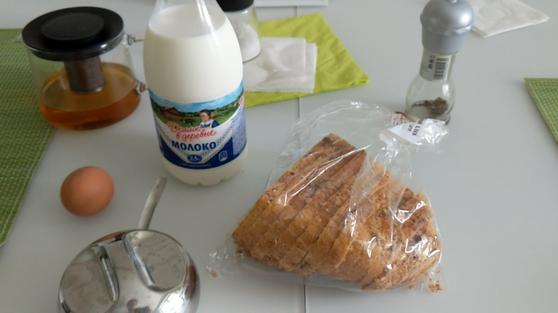egg: (60, 167, 114, 215)
